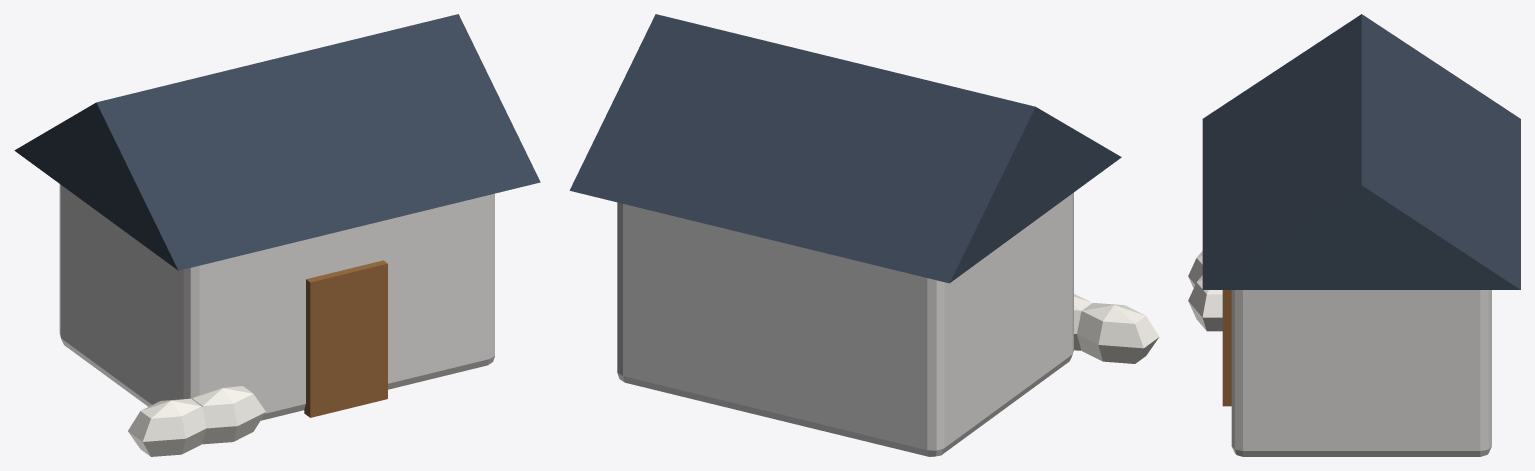
The model's file is an-silk-i6MDEDeZ.glb.
3 renders of one model, left to right at view 1: azimuth 30°, elevation 25°; view 2: azimuth 150°, elevation 25°; view 3: azimuth 270°, elevation 25°, orthographic. The views are drawn at different scales.
Visible parts, largest first — view 1: an-silk; view 2: an-silk; view 3: an-silk.
Boxes of the visible parts, left/top/right/bottom form: an-silk: left=14, top=14, right=540, bottom=456; an-silk: left=569, top=14, right=1159, bottom=456; an-silk: left=1188, top=14, right=1520, bottom=456.
Size of the model in its own units: 0.1539 by 0.11 by 0.115.
